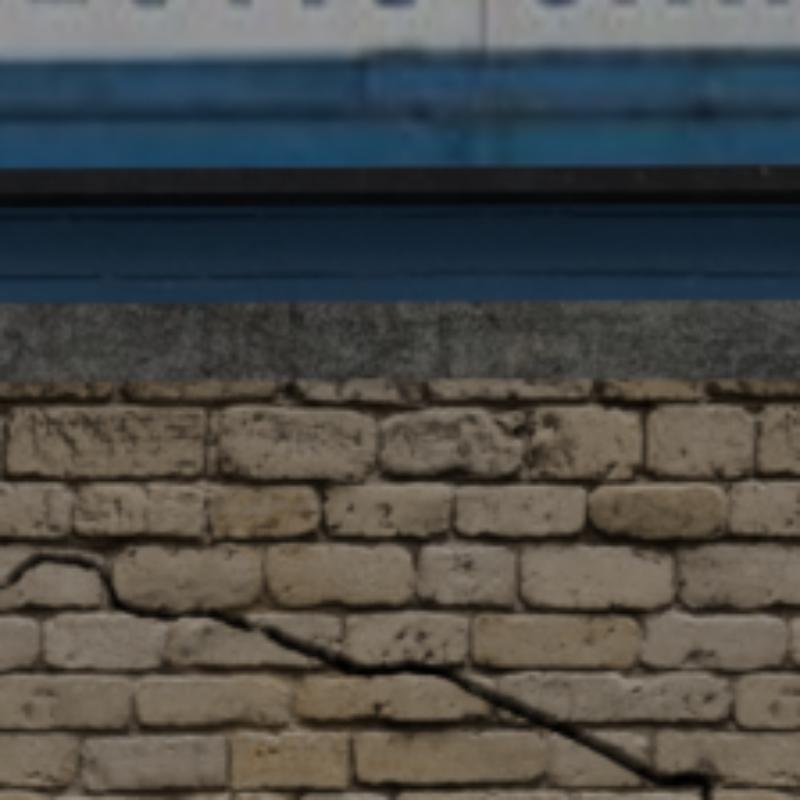crack: (0, 554, 711, 796)
